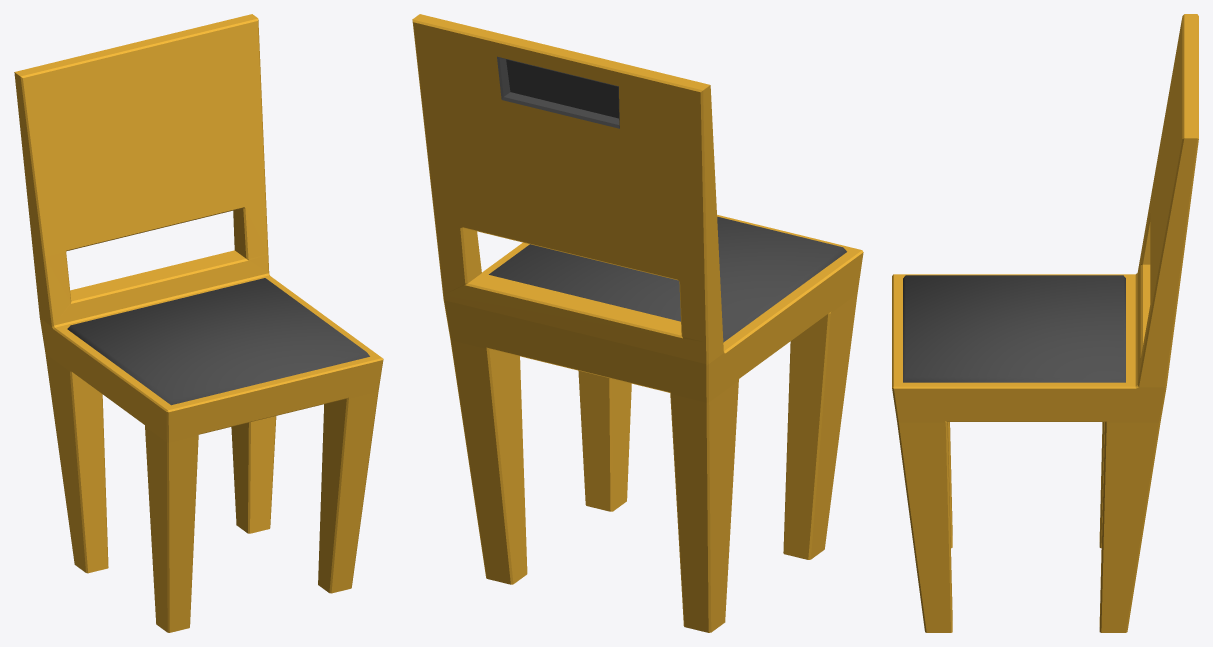
The model's file is Chair_Ye_00.FBX.
3 renders of one model, left to right at view 1: azimuth 30°, elevation 25°; view 2: azimuth 150°, elevation 25°; view 3: azimuth 270°, elevation 25°, orthographic. The views are drawn at different scales.
Visible parts, largest first — view 1: Chair_Ye_00; view 2: Chair_Ye_00; view 3: Chair_Ye_00.
Part boxes in pixels (box(x1,y1,x2,y2)): Chair_Ye_00: box(14, 14, 383, 632); Chair_Ye_00: box(412, 14, 863, 632); Chair_Ye_00: box(892, 14, 1198, 632).
Size of the model in its own units: 0.5255 by 1 by 0.548.
